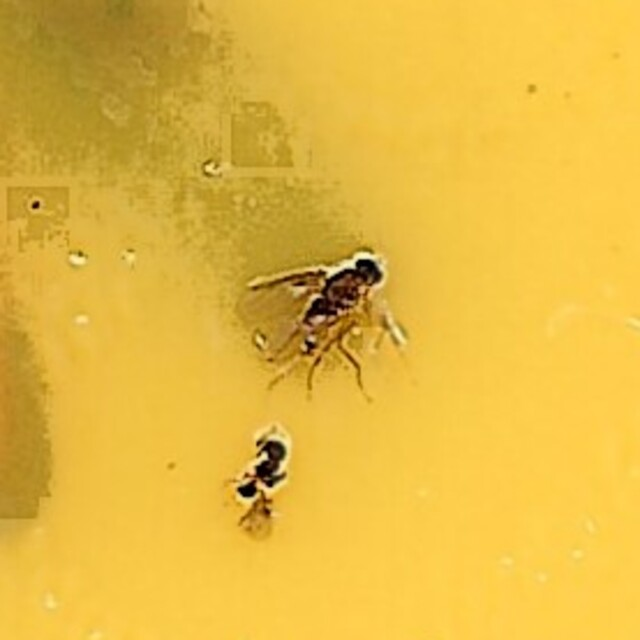Brachycera: (231, 242, 409, 398)
